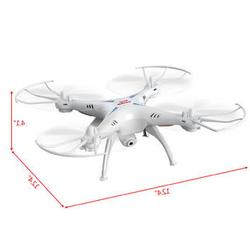drone: (13, 64, 248, 183)
